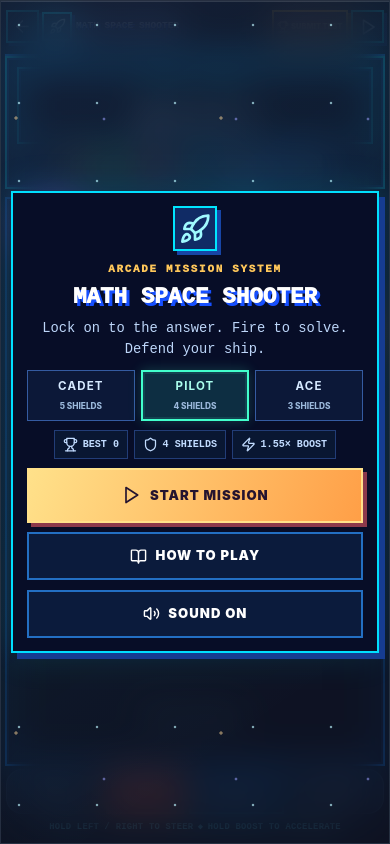
Test case: Math Space Shooter mission › guards manual submit against duplicate taps and keeps it separate from firing
Later steps or results of the test are not shown.
Click the button with test id "space-start-mission" at (195, 495), box [27,468,363,523]
Wait 2750 ms
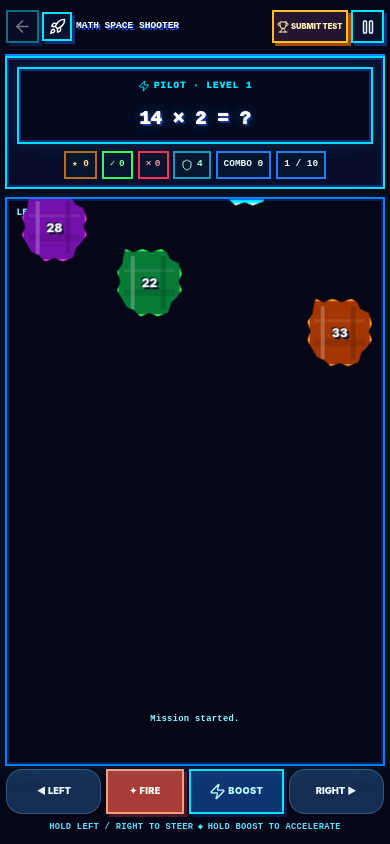
Now the button with aria-label "Submit complete test" is enabled, box [272,10,348,43]
